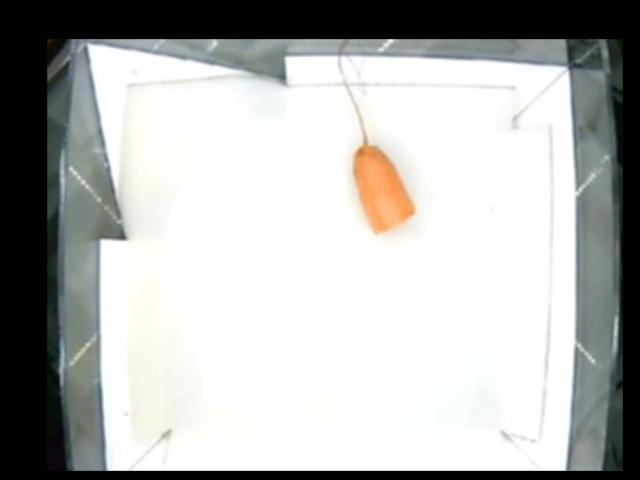Carrot: (338, 142, 421, 231)
